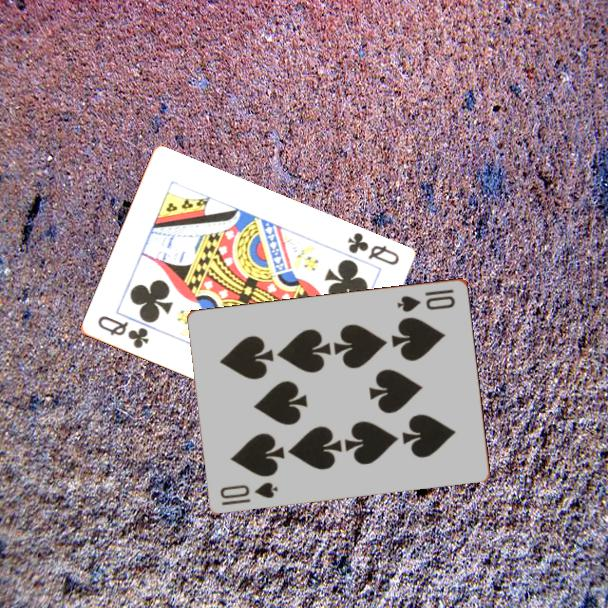c12: (343, 229, 402, 268), (94, 312, 151, 352)
s10: (394, 285, 458, 315), (217, 478, 281, 508)
